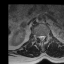CCS_normal: (41, 33, 43, 42)
LFS_normal: (45, 32, 47, 39)
LLS_normal: (43, 32, 45, 41)
RFS_normal: (36, 33, 39, 39)
RLS_normal: (39, 33, 41, 41)
